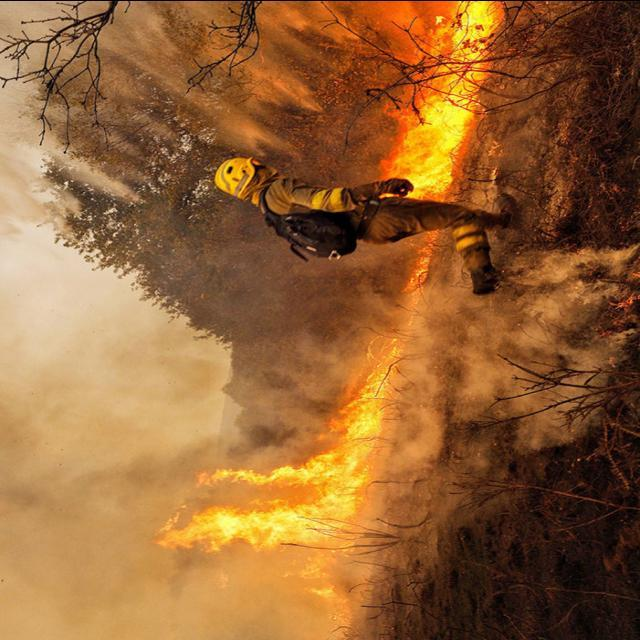Fire: (163, 336, 409, 604), (369, 0, 506, 204)
